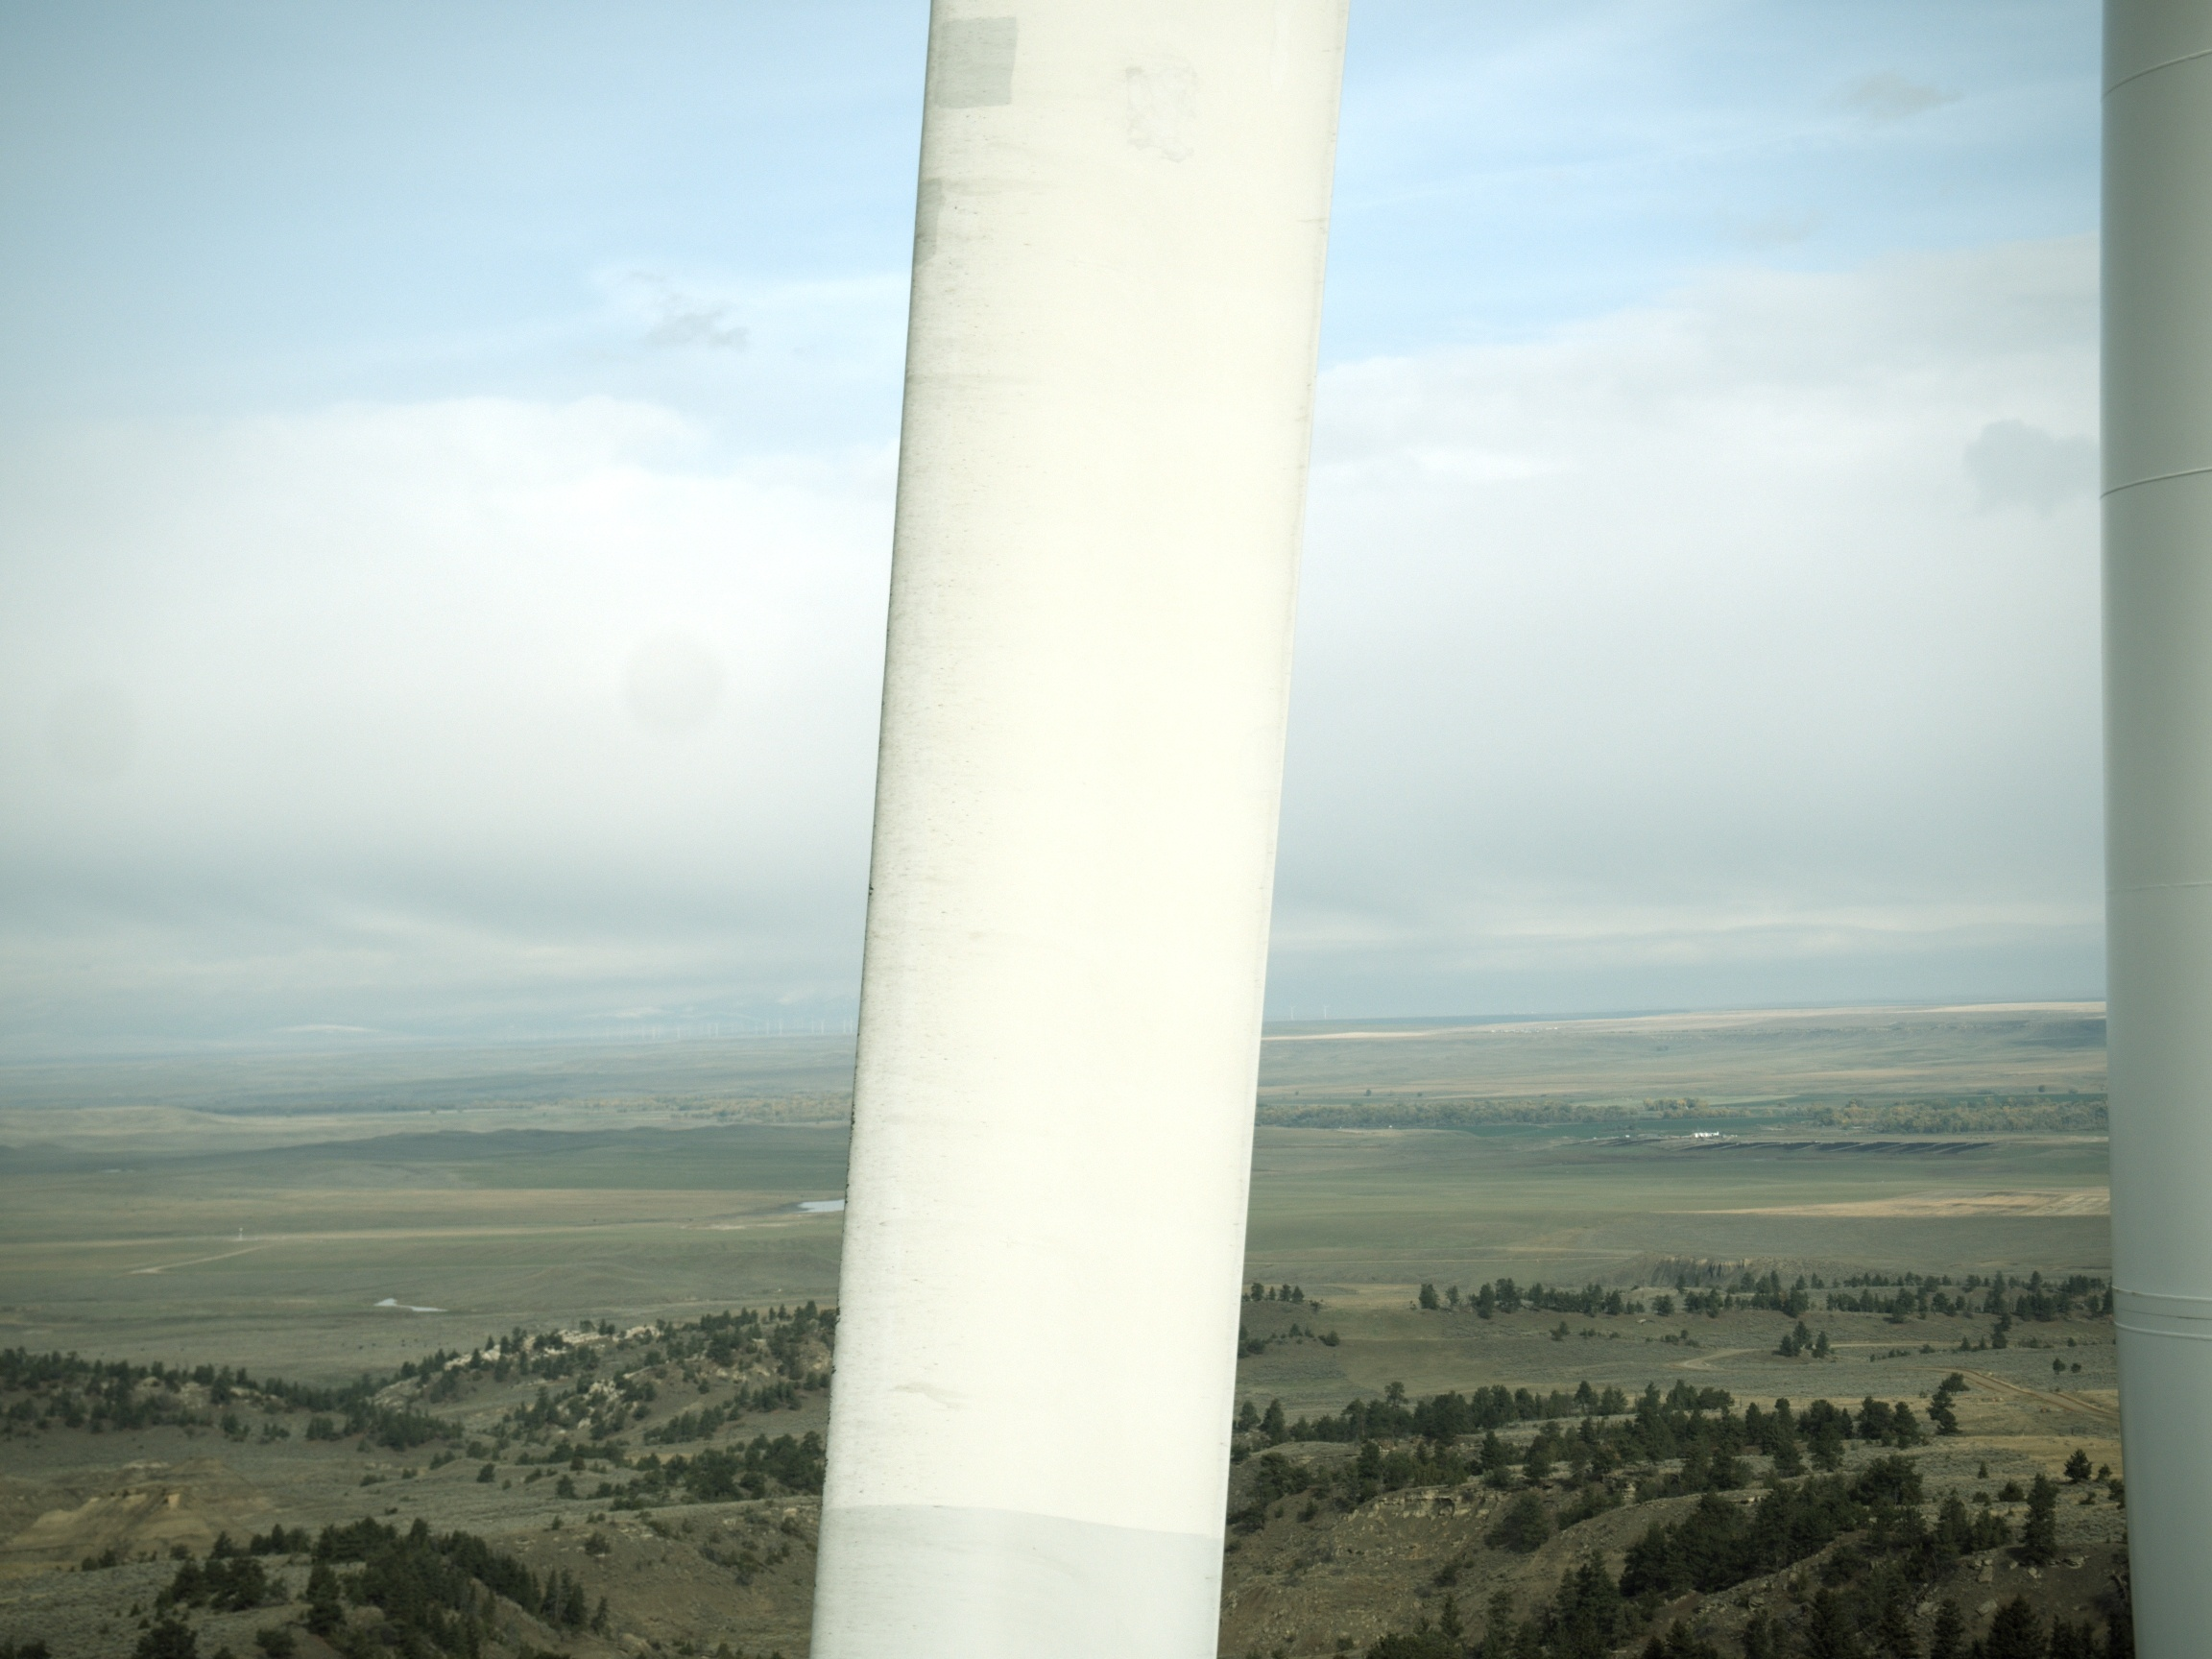chip: (831, 1364, 836, 1377), (852, 1110, 855, 1126), (824, 1457, 829, 1467), (836, 1307, 841, 1316), (827, 1415, 831, 1425), (824, 1473, 827, 1483), (845, 1195, 848, 1204), (836, 1317, 840, 1326), (846, 1183, 850, 1190), (867, 892, 873, 896), (869, 887, 873, 890)
